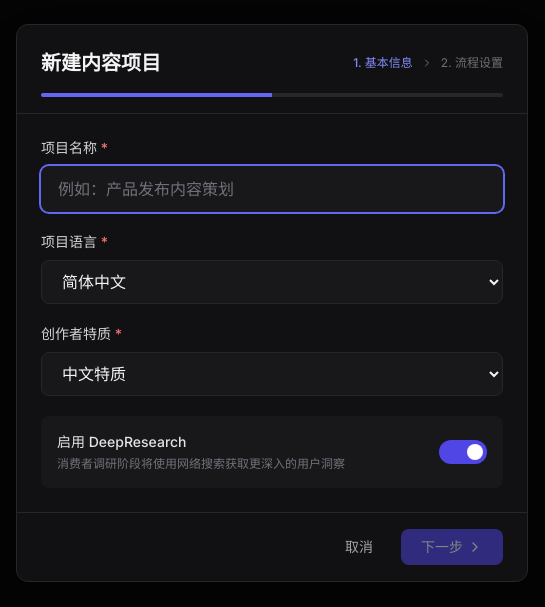
Test: CreateProjectModal › switches creator profile selection to the matching locale when project language changes
Expected: the heading "新建内容项目" is shown, [41, 49, 161, 77]
Expected: the dropdown below "创作者特质" shows "中文特质", [41, 352, 503, 396]
Select "日本語" in the dropdown below "项目语言" at (272, 282), box [41, 260, 503, 304]
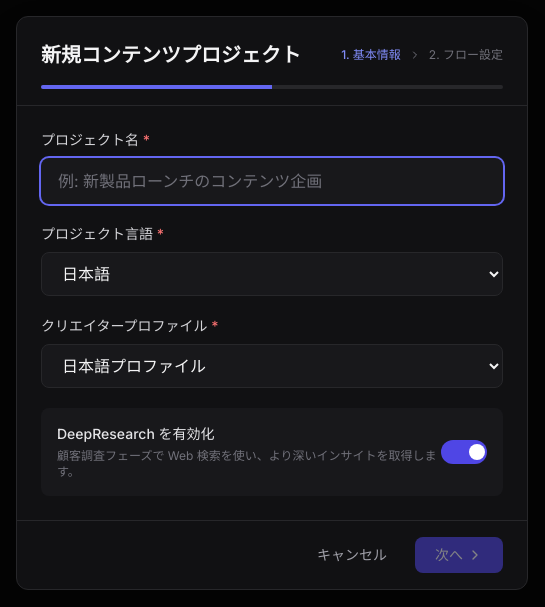
Expected: the text "中文特质" is not shown
Now the dropdown below "クリエイタープロファイル" shows "日本語プロファイル", box [41, 344, 503, 388]
